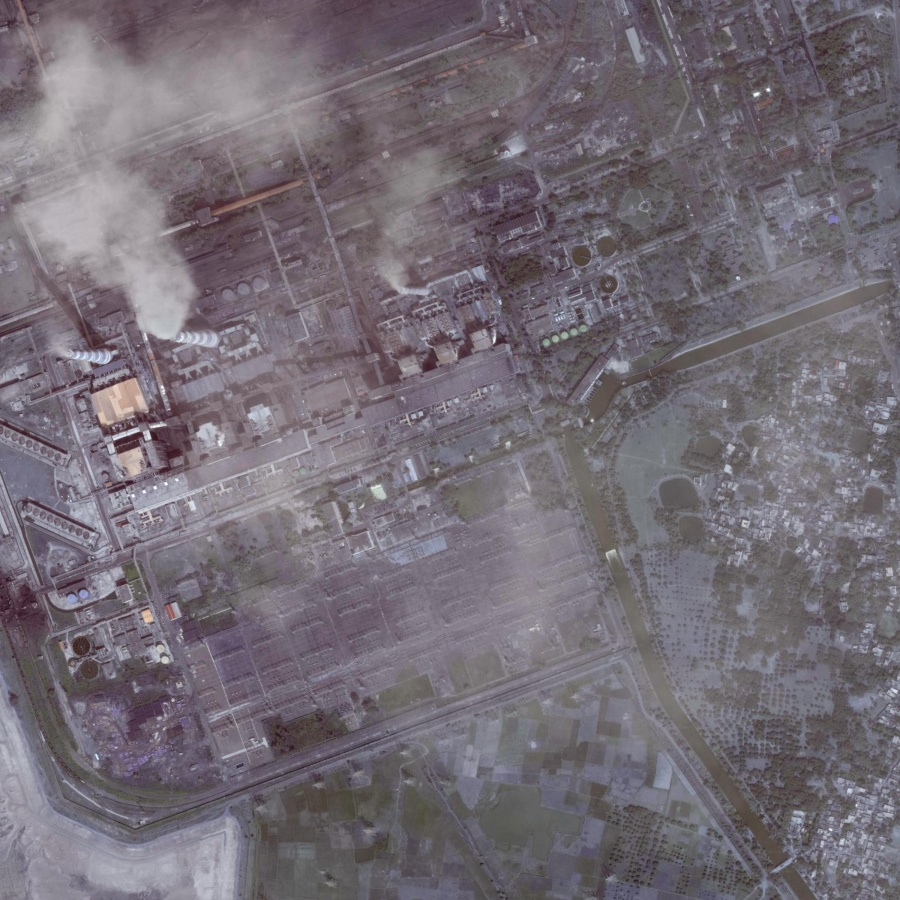PowerPlant: (15, 210, 499, 521)
